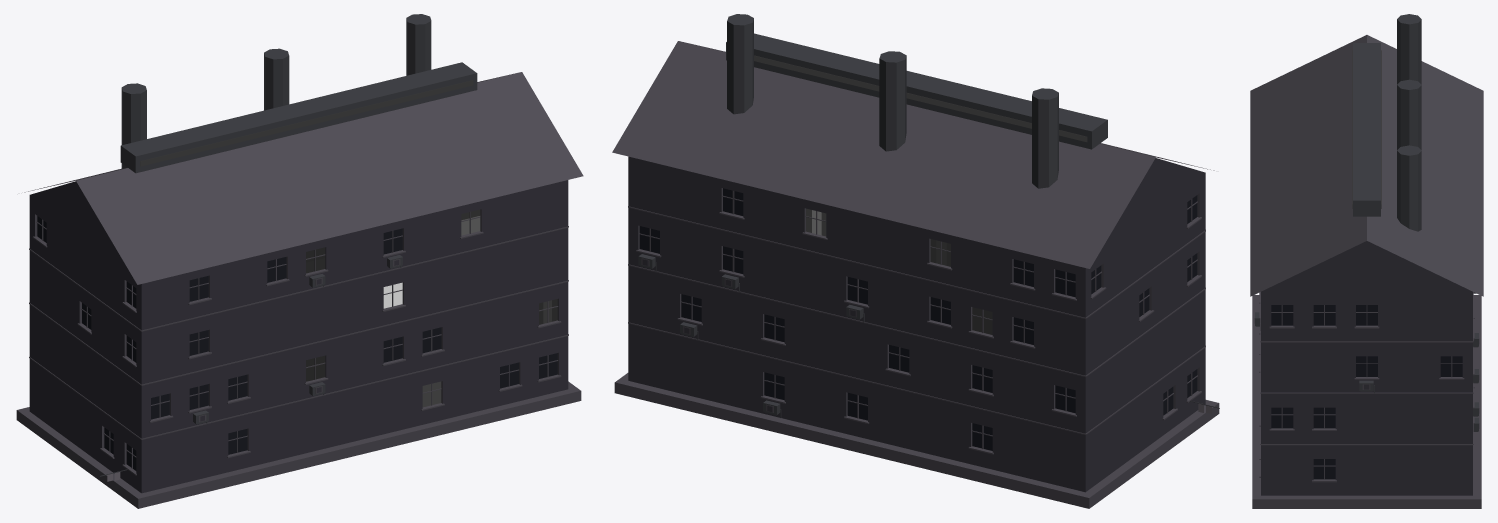
Rendered from cond_shed_b.glb.
3 renders of one model, left to right at view 1: azimuth 30°, elevation 25°; view 2: azimuth 150°, elevation 25°; view 3: azimuth 270°, elevation 25°, orthographic. The views are drawn at different scales.
Visible parts, largest first — view 1: cond_shed_b; view 2: cond_shed_b; view 3: cond_shed_b.
Boxes of the visible parts, x1,y1,x2,y2 form: cond_shed_b: (16,14,583,508); cond_shed_b: (612,14,1219,508); cond_shed_b: (1250,14,1483,508).
Bounding box in the file's own units: 28.7 × 20.1 × 13.2.
Materials: 7 (2 with a texture image).
